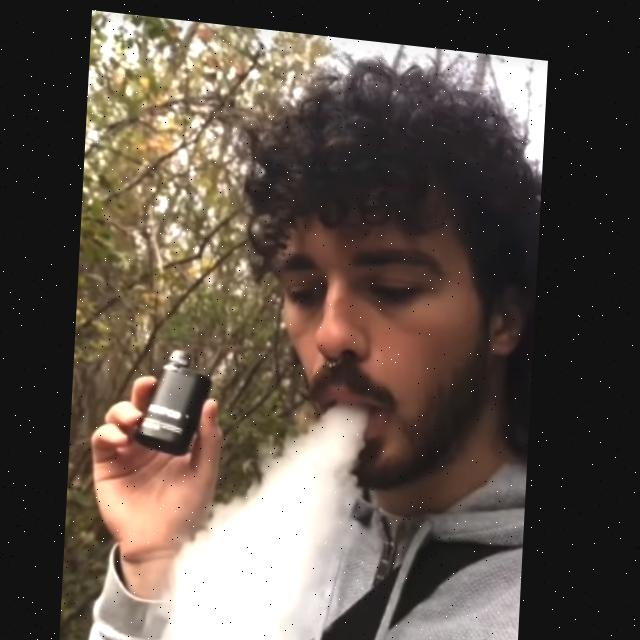vape: (137, 342, 218, 454)
